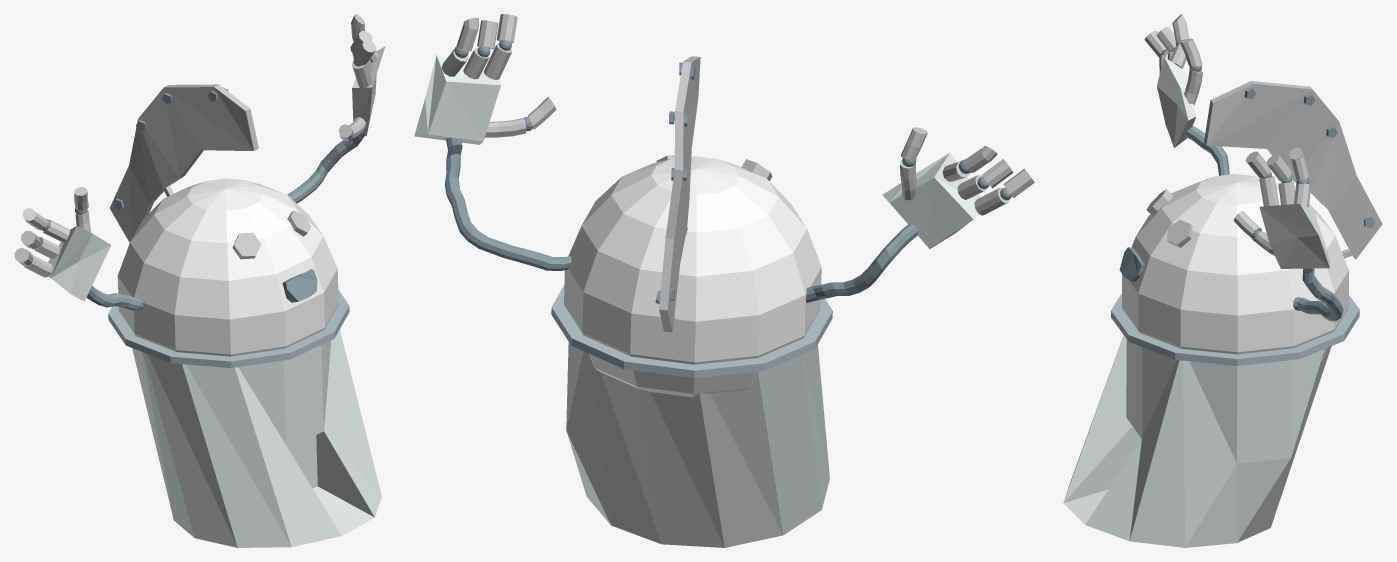
The model's file is robot-by-idea-ink-2ZEpBpvHlWi.glb.
3 renders of one model, left to right at view 1: azimuth 30°, elevation 25°; view 2: azimuth 150°, elevation 25°; view 3: azimuth 270°, elevation 25°, orthographic. The views are drawn at different scales.
Visible parts, largest first — view 1: group486377428, group1213926981, group1356628452, group1118337136, group1640919752, group311438313, group626401070, group236782981, group2109798719, group1879558714; view 2: group1213926981, group486377428, group1118337136, group1356628452, group626401070, group1640919752, group311438313, group2109798719; view 3: group486377428, group1213926981, group1356628452, group1118337136, group626401070, group1640919752, group311438313, group2109798719, group236782981, group2033154467, group2067453573, group2126646730 (+4 smaller).
Part boxes in pixels (left/top/right/bottom): group486377428: left=132, top=329, right=381, bottom=547; group1213926981: left=117, top=178, right=338, bottom=356; group1356628452: left=109, top=84, right=258, bottom=242; group1118337136: left=108, top=289, right=349, bottom=367; group1640919752: left=48, top=226, right=111, bottom=301; group311438313: left=287, top=133, right=364, bottom=203; group626401070: left=352, top=46, right=385, bottom=136; group236782981: left=282, top=269, right=317, bottom=302; group2109798719: left=86, top=285, right=143, bottom=311; group1879558714: left=232, top=232, right=261, bottom=259; group1213926981: left=564, top=156, right=821, bottom=397; group486377428: left=566, top=342, right=829, bottom=547; group1118337136: left=551, top=285, right=832, bottom=378; group1356628452: left=659, top=56, right=700, bottom=332; group626401070: left=414, top=55, right=500, bottom=144; group1640919752: left=882, top=152, right=980, bottom=248; group311438313: left=445, top=137, right=571, bottom=270; group2109798719: left=806, top=224, right=918, bottom=302; group486377428: left=1063, top=335, right=1330, bottom=547; group1213926981: left=1122, top=174, right=1348, bottom=362; group1356628452: left=1204, top=81, right=1382, bottom=259; group1118337136: left=1111, top=293, right=1359, bottom=365; group626401070: left=1259, top=203, right=1329, bottom=268; group1640919752: left=1157, top=57, right=1196, bottom=147; group311438313: left=1293, top=268, right=1343, bottom=321; group2109798719: left=1184, top=126, right=1229, bottom=175; group236782981: left=1119, top=247, right=1145, bottom=281; group2033154467: left=1167, top=219, right=1192, bottom=247; group2067453573: left=1259, top=176, right=1278, bottom=206; group2126646730: left=1184, top=69, right=1202, bottom=105.
Size of the model in its own units: 2.74 by 2.48 by 1.65.
